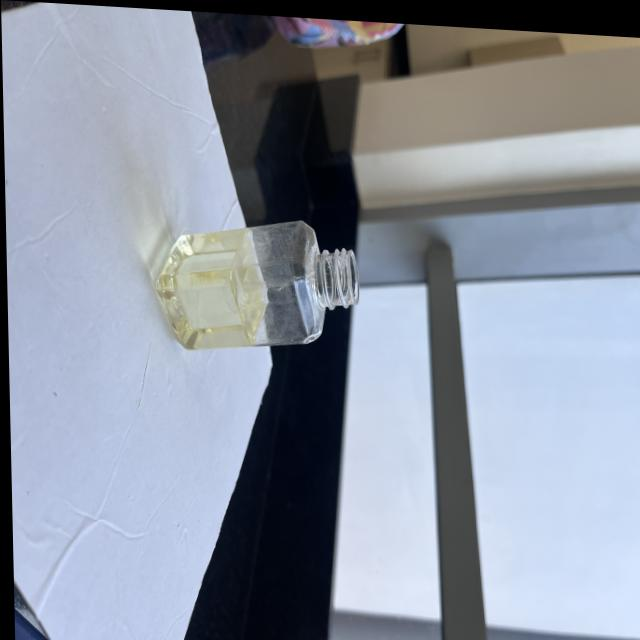oil: (151, 223, 268, 355)
